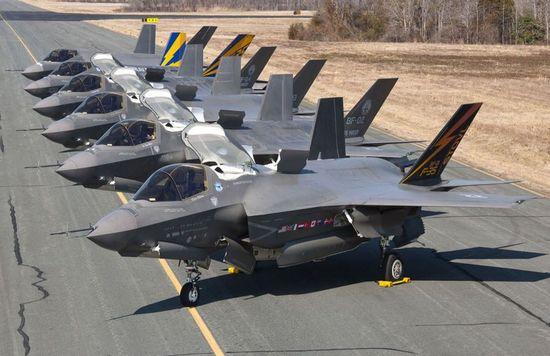airplane: (46, 101, 537, 305), (50, 78, 431, 194), (42, 59, 332, 148), (33, 43, 278, 120), (22, 25, 220, 96), (20, 18, 163, 84)
